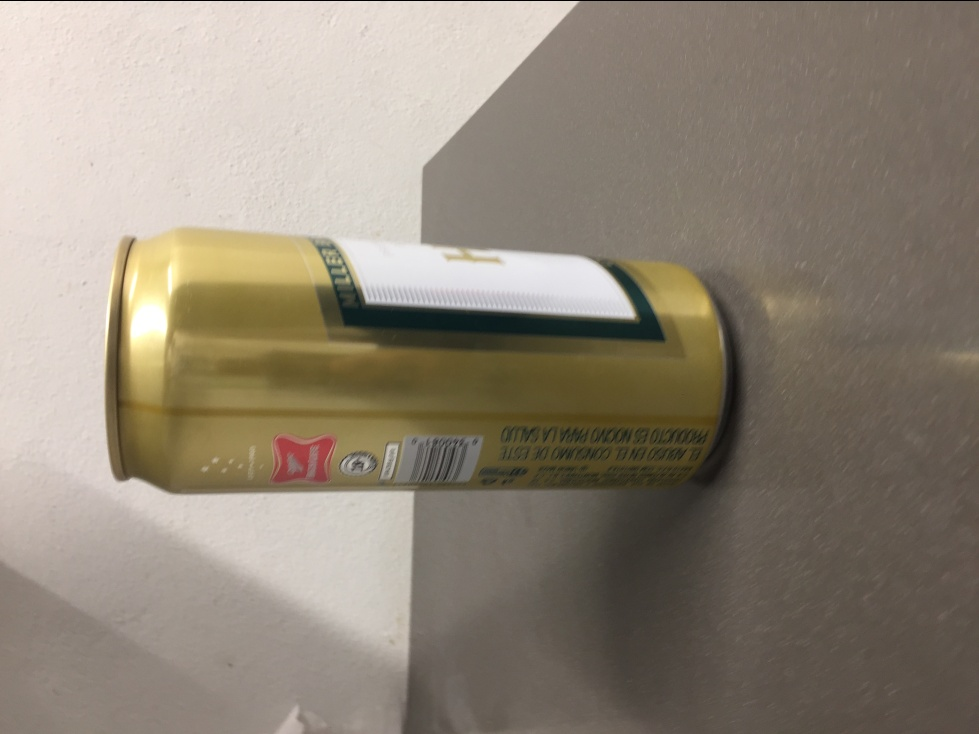miller: (98, 219, 735, 500)
